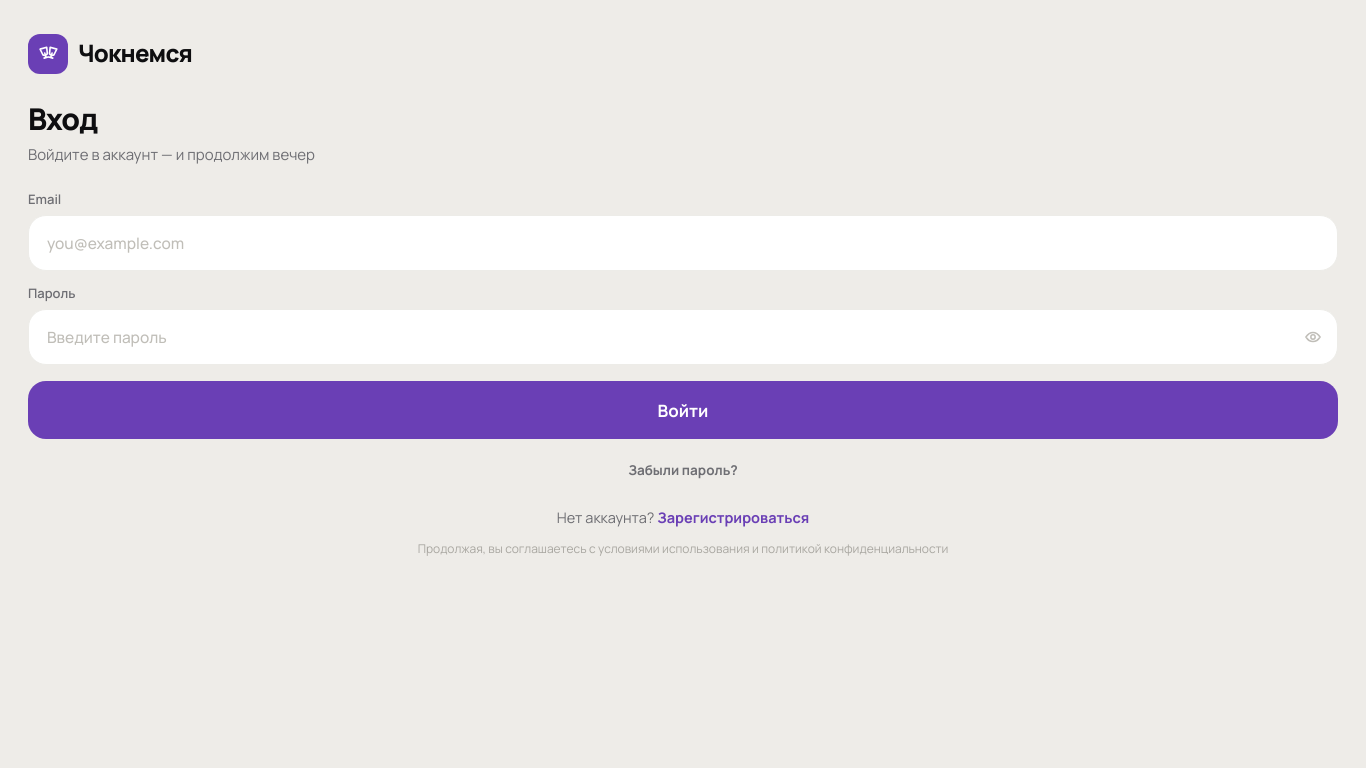
it: shows an injected authentication service error
Step 1. Type "user@example.com" into the field labelled "Email" → (683, 243), box [29,216,1337,270]
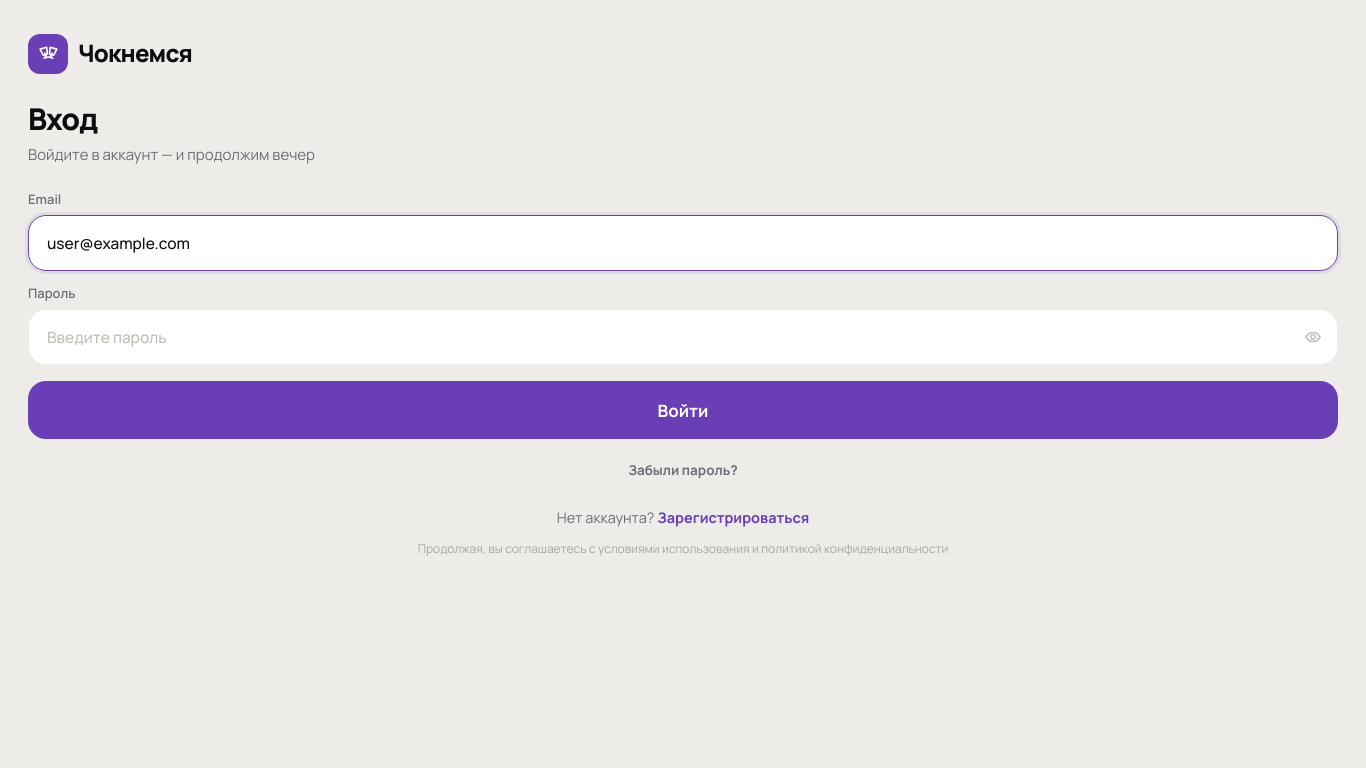
Step 2. Type "password123" into the password field labelled "Пароль" → (659, 337), box [29,310,1289,364]
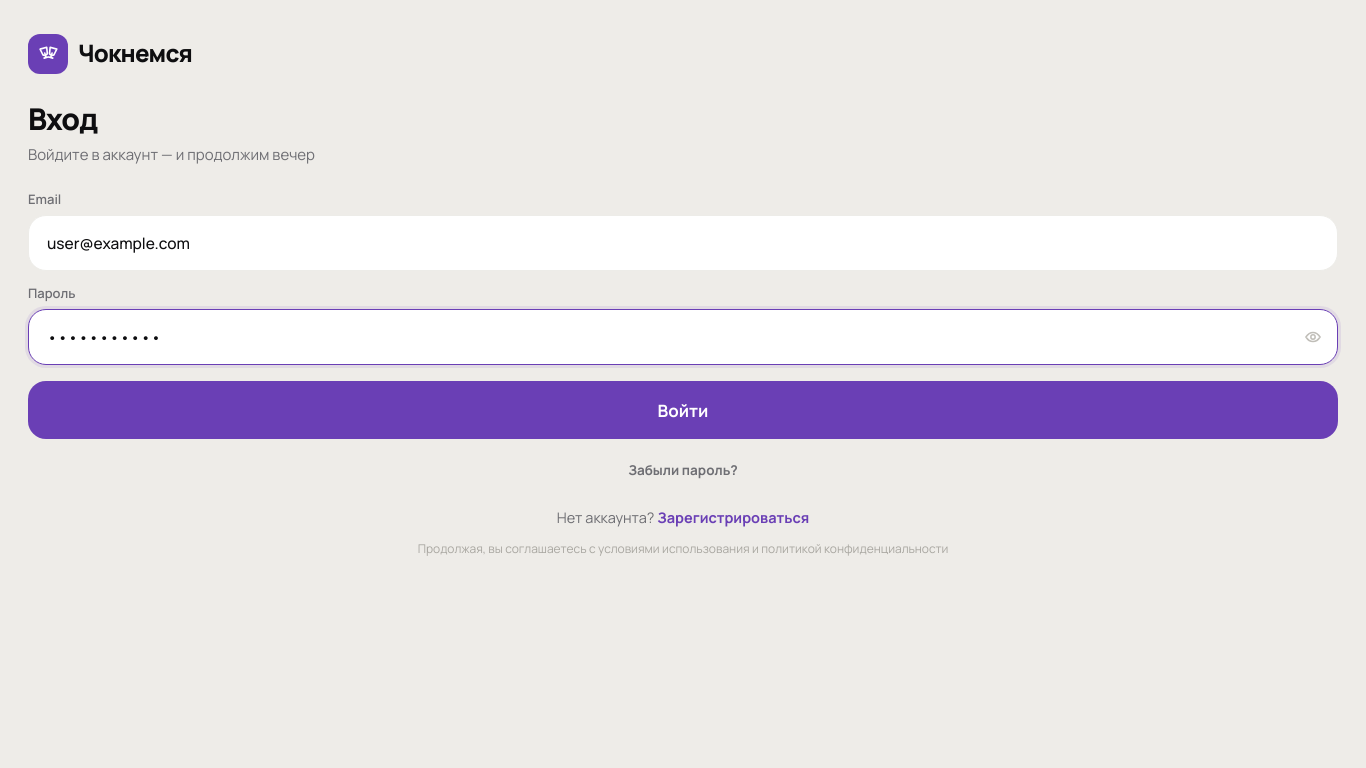
Step 3. Click the button "Войти" → (683, 410), box [28,381,1338,439]
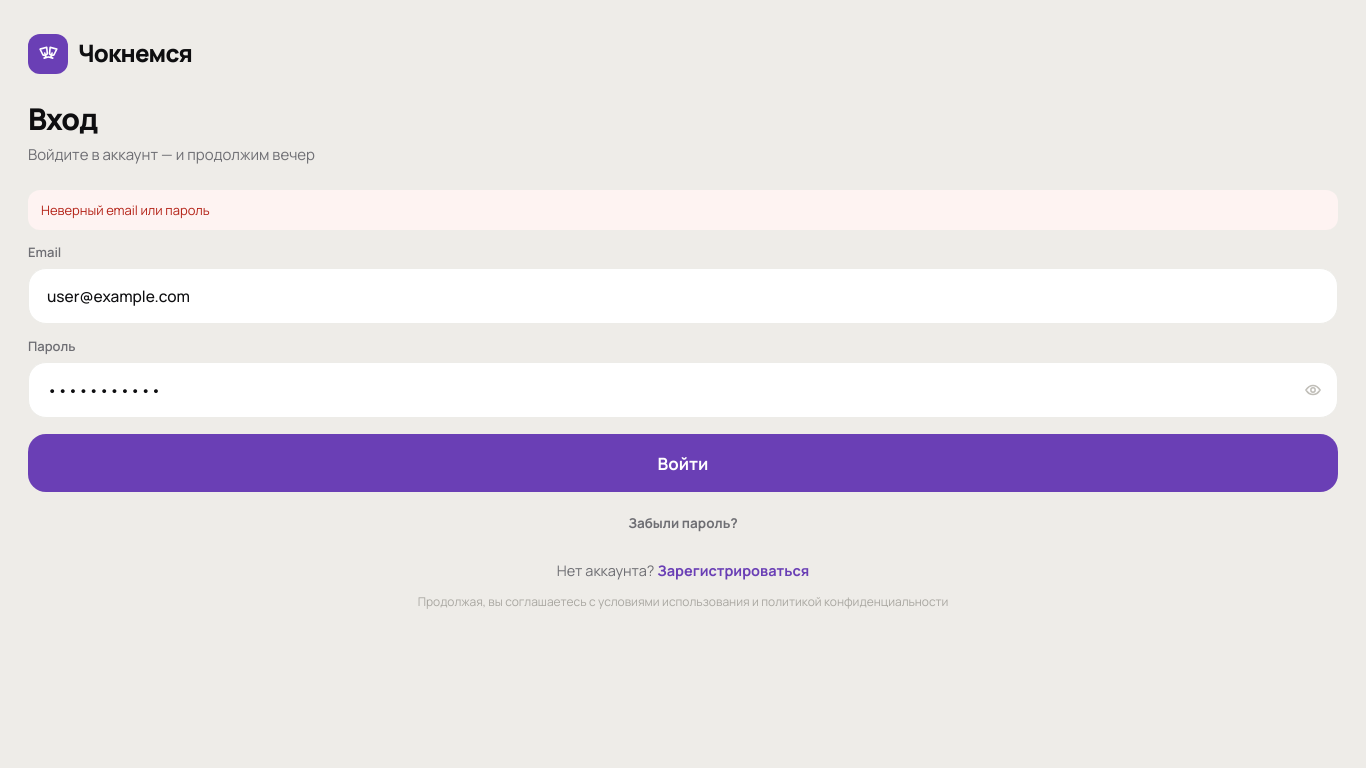
Expected: the message reads "Неверный email или пароль", [41,201,210,219]
